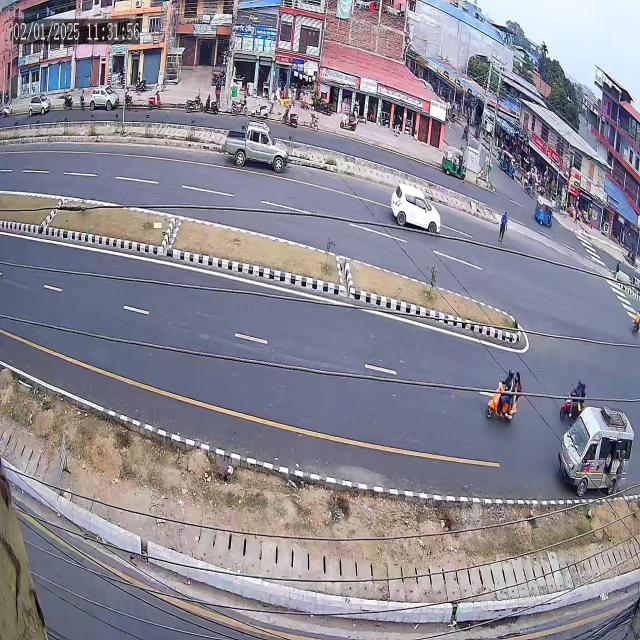car: (378, 174, 446, 240)
motorcycle: (482, 348, 521, 438)
